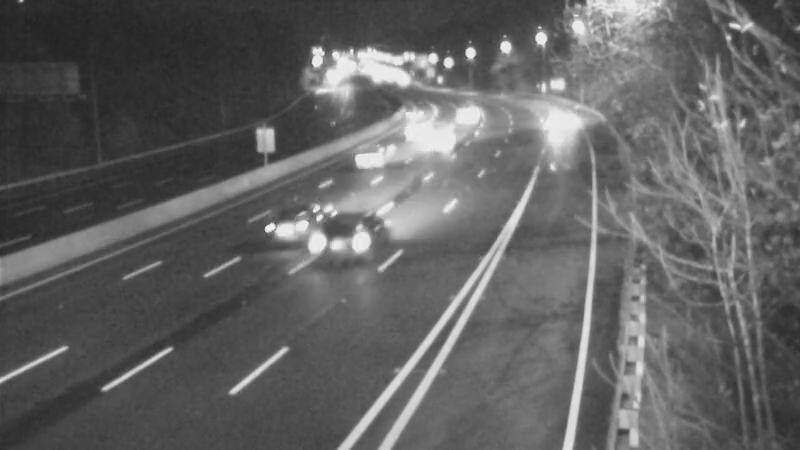vehicle: (330, 115, 410, 195), (294, 207, 374, 287), (244, 190, 324, 270), (448, 87, 498, 137), (385, 87, 435, 137), (528, 93, 578, 143), (410, 114, 460, 164)
